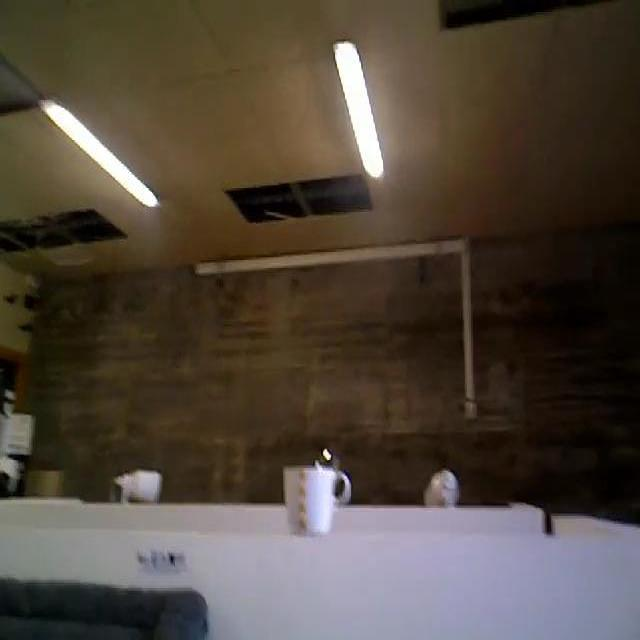cup: (276, 459, 356, 542)
